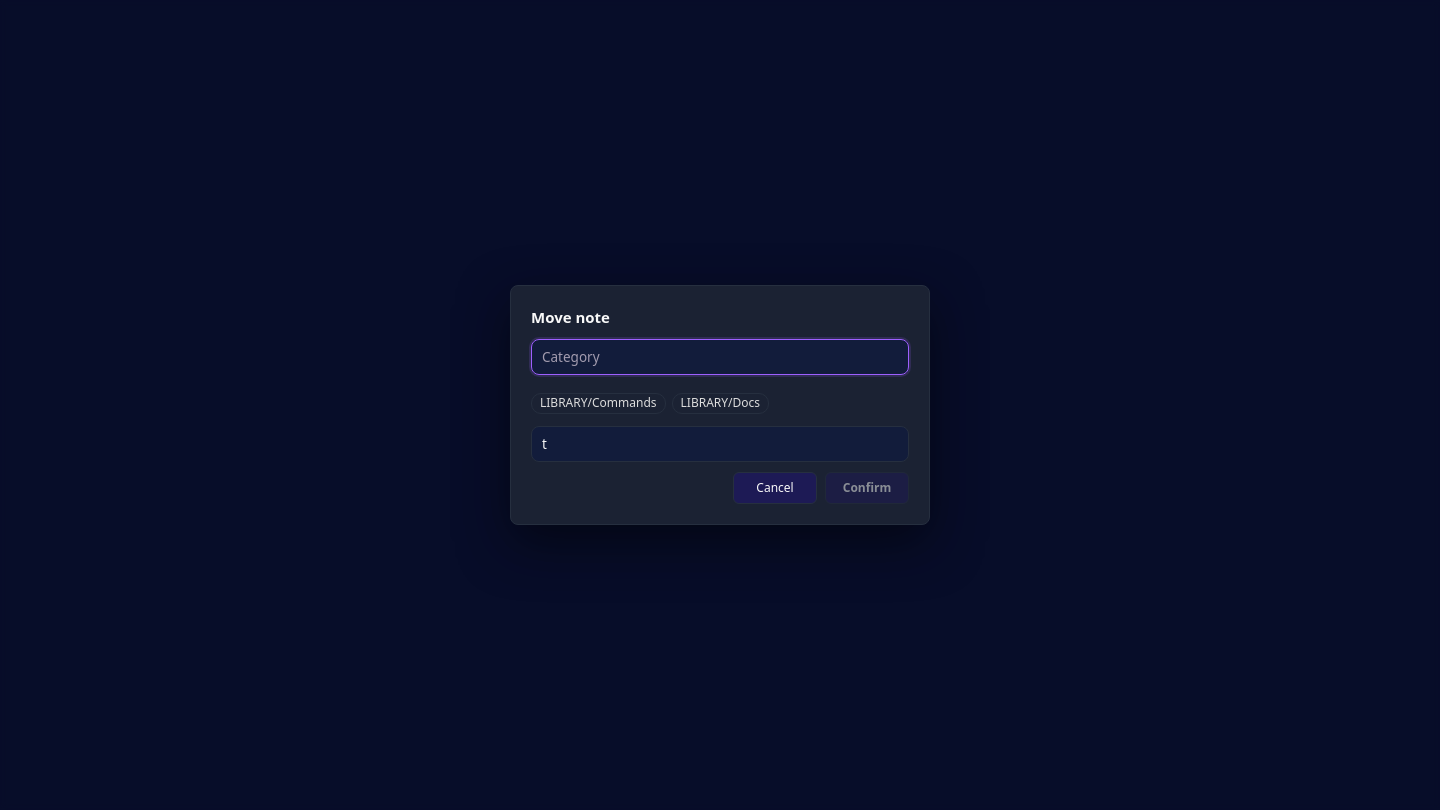
it: TriageMoveModal › clicking a preset chip fills the category input without confirming
Check: the field labelled "Category" is empty, box [531,339,909,375]
Click the button "LIBRARY/Docs".
click(720, 403)  # box [672,393,769,414]
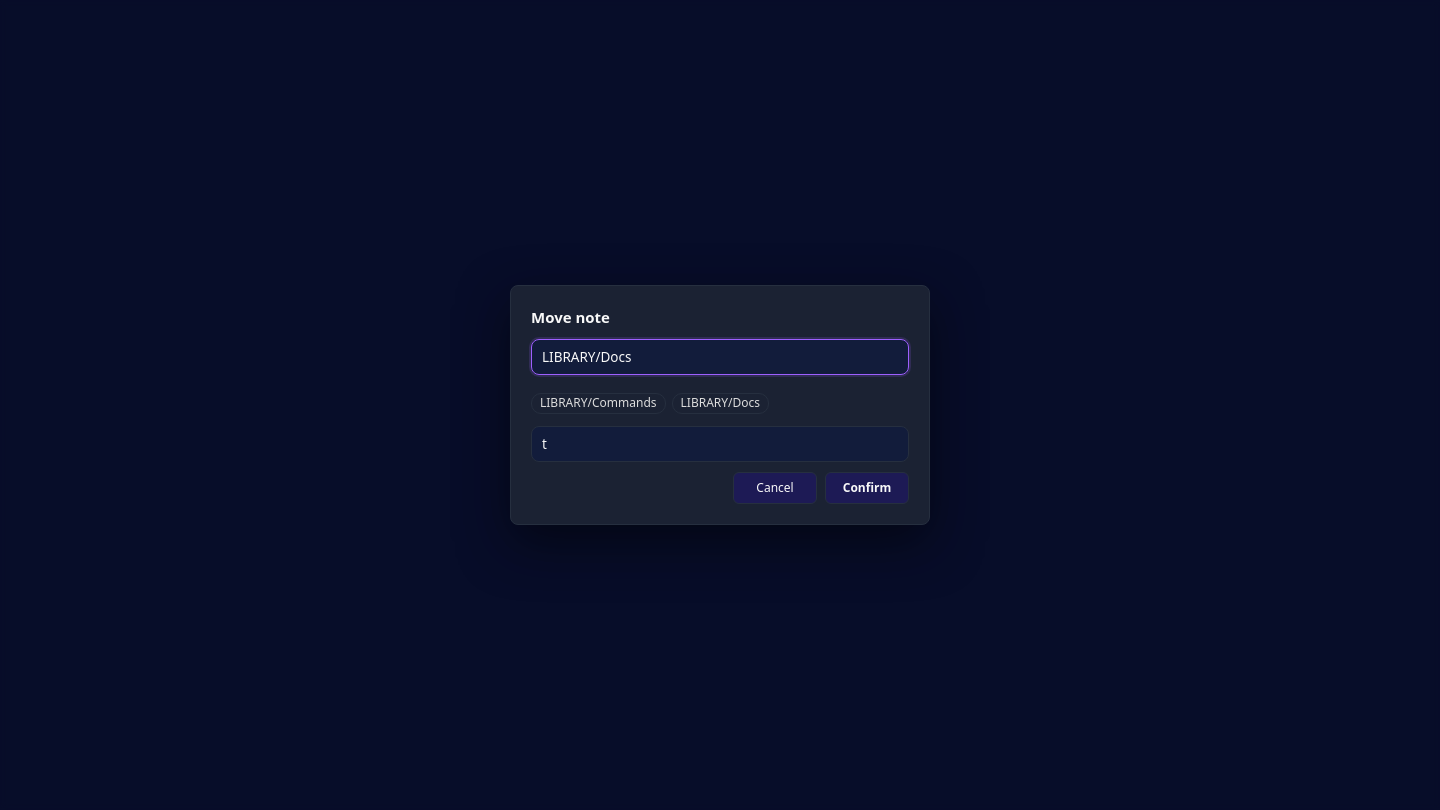
Check: the field named "Category" holds "LIBRARY/Docs", box [531,339,909,375]
